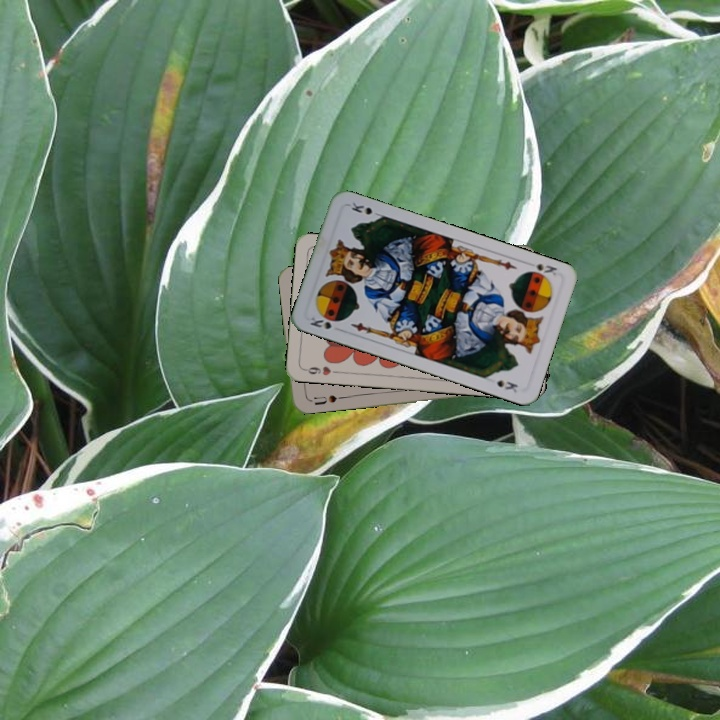H9: (300, 362, 341, 378)
SK: (306, 313, 345, 334), (532, 259, 560, 281)
SU: (305, 391, 339, 408)
